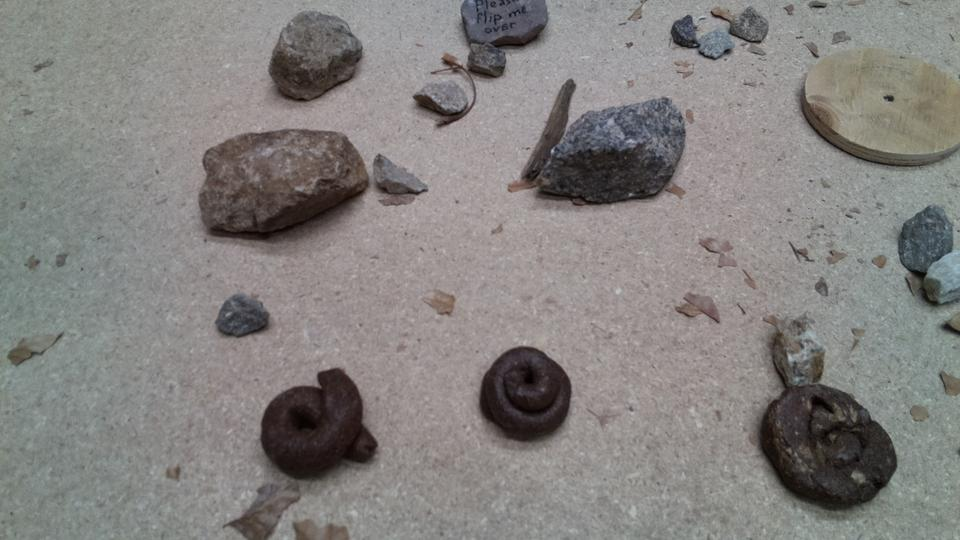poop: (756, 381, 899, 513), (258, 365, 383, 478), (473, 341, 575, 446)
